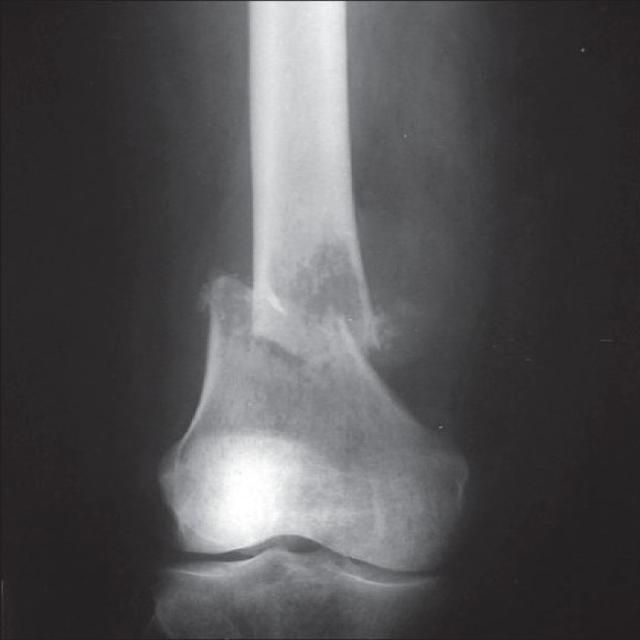pathological: (183, 246, 421, 404)
